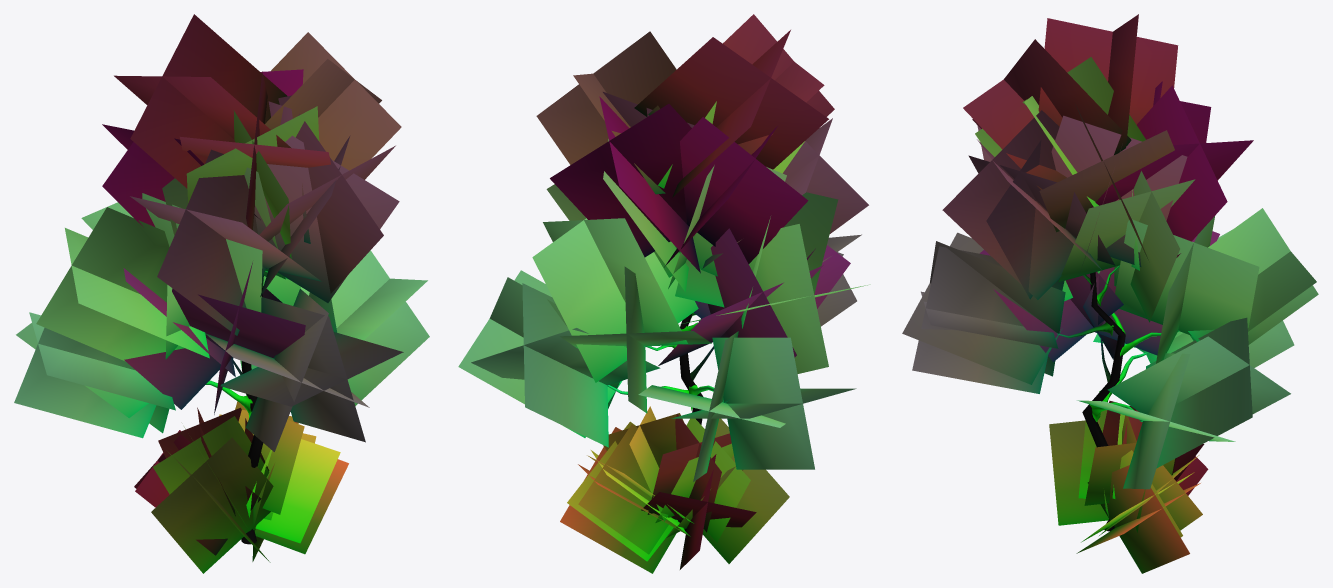
The model's file is URP_P12_Tree_3_LOD_2.fbx.
3 renders of one model, left to right at view 1: azimuth 30°, elevation 25°; view 2: azimuth 150°, elevation 25°; view 3: azimuth 270°, elevation 25°, orthographic. The views are drawn at different scales.
Parts seen in each view (by area): view 1: Tree_3_LOD_2; view 2: Tree_3_LOD_2; view 3: Tree_3_LOD_2.
Part boxes in pixels (left/top/right/bottom): Tree_3_LOD_2: left=14, top=14, right=429, bottom=573; Tree_3_LOD_2: left=458, top=14, right=870, bottom=573; Tree_3_LOD_2: left=902, top=14, right=1318, bottom=573.
Size of the model in its own units: 202 by 280 by 199.
